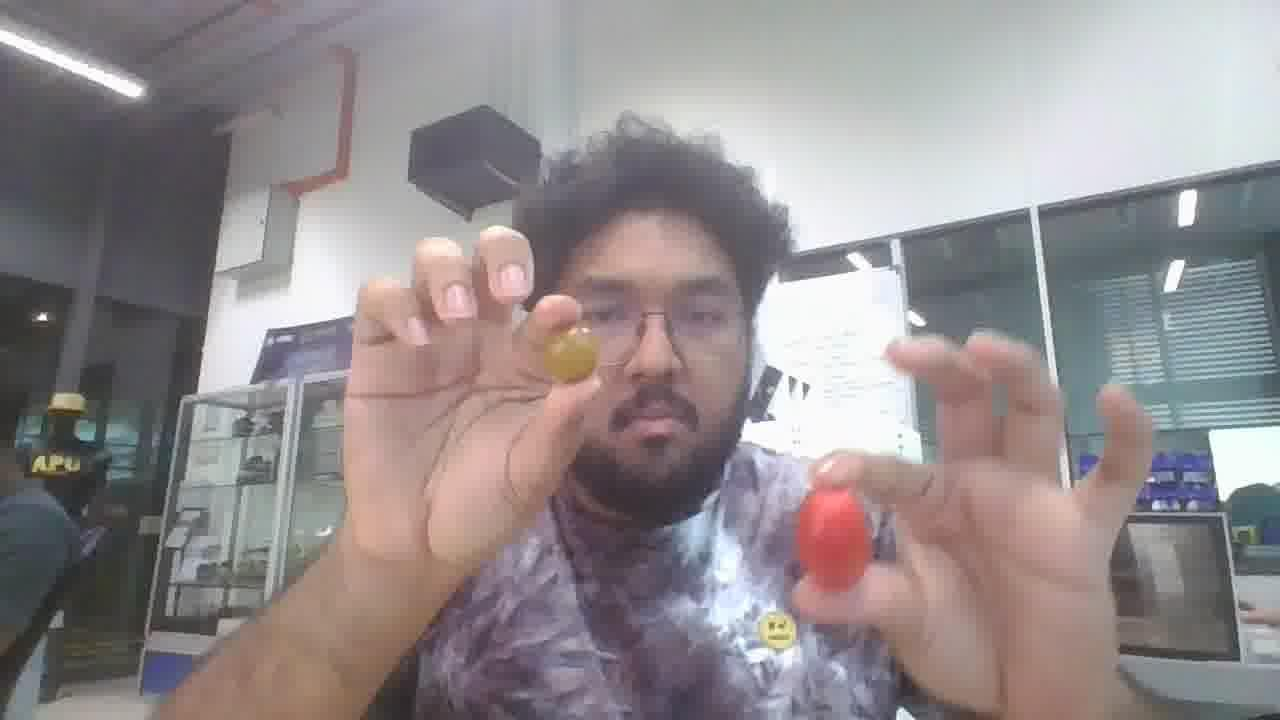red_cherry_tomato: (795, 488, 870, 592)
yellow_cherry_tomato: (544, 326, 597, 381)
